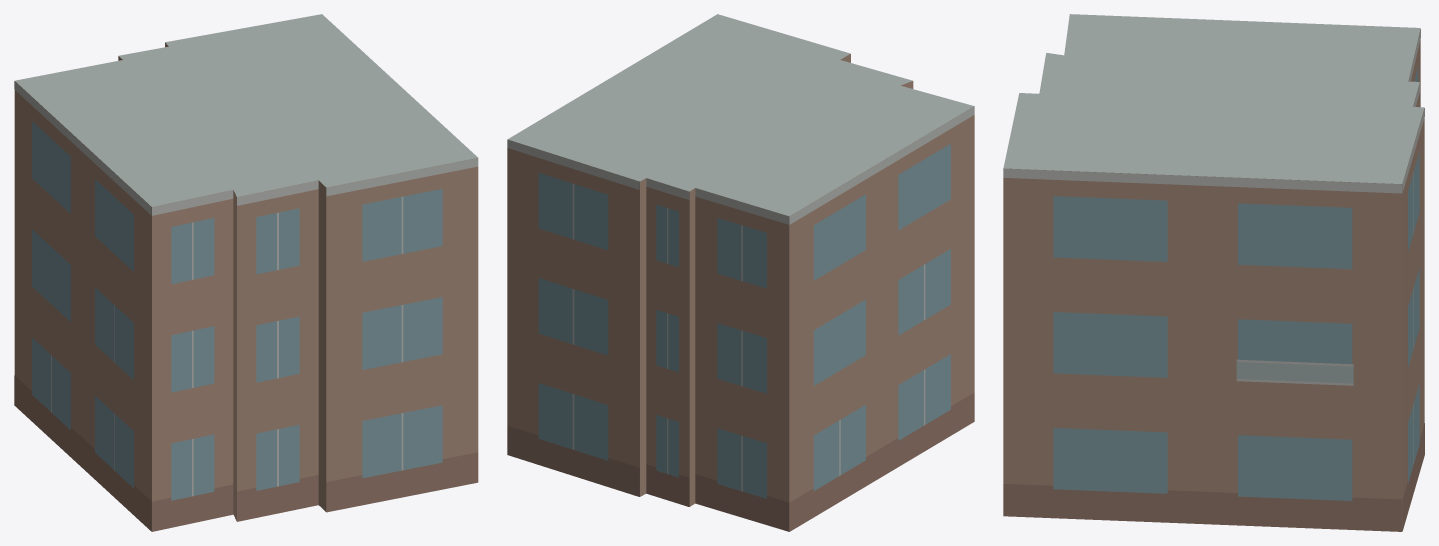
File: survey-upis-32512784.glb
3 renders of one model, left to right at view 1: azimuth 30°, elevation 25°; view 2: azimuth 150°, elevation 25°; view 3: azimuth 270°, elevation 25°, orthographic. The views are drawn at different scales.
Visible parts, largest first — view 1: survey-upis-32512784.tmp; view 2: survey-upis-32512784.tmp; view 3: survey-upis-32512784.tmp.
Part boxes in pixels (x1=…): survey-upis-32512784.tmp: x1=14, y1=14, x2=478, y2=531; survey-upis-32512784.tmp: x1=507, y1=14, x2=974, y2=531; survey-upis-32512784.tmp: x1=1003, y1=14, x2=1424, y2=531.
Size of the model in its own units: 9.45 by 9 by 9.89.
